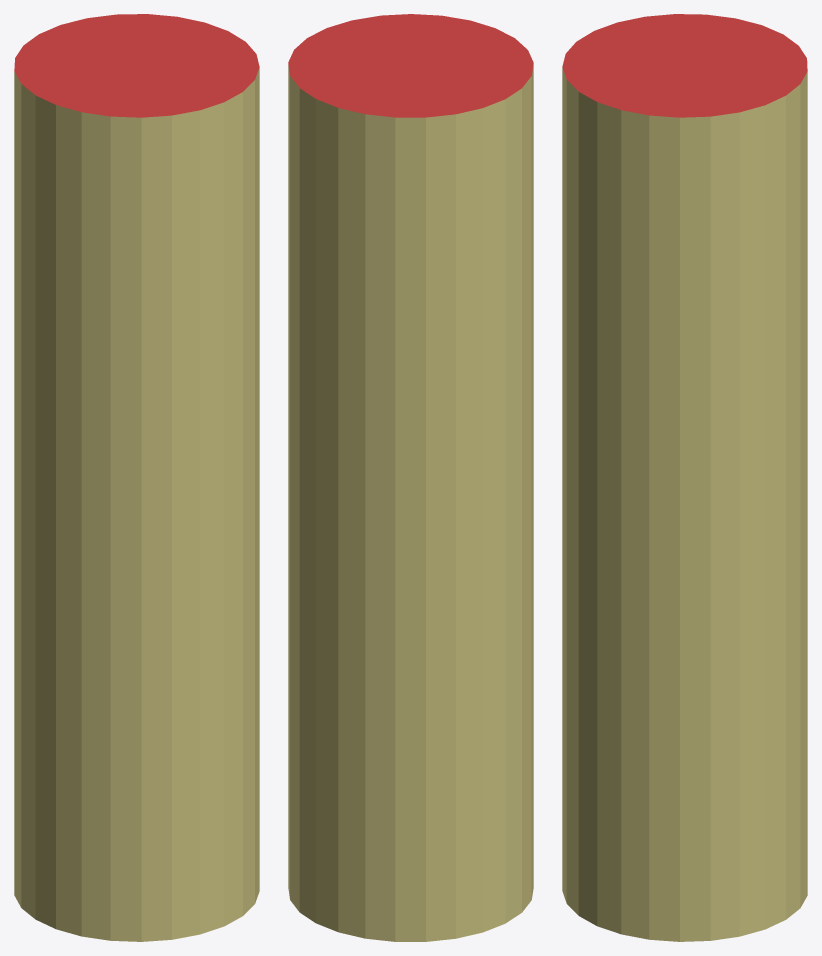
The picture shows the model from 3 angles, left to right: view 1: azimuth 30°, elevation 25°; view 2: azimuth 150°, elevation 25°; view 3: azimuth 270°, elevation 25°; orthographic projection.
Size of the model in its own units: 6.39 by 6.39 by 23.69.
